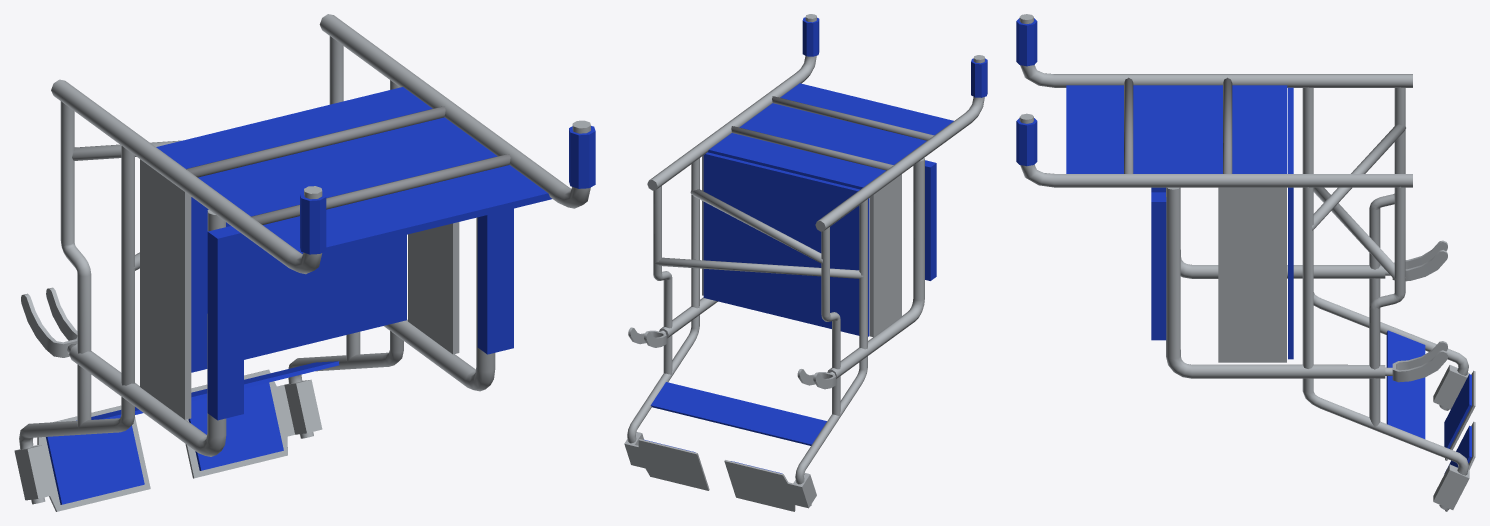
The model's file is chair.obj.
3 views of the same model, side by side, from view 1: azimuth 30°, elevation 25°; view 2: azimuth 150°, elevation 25°; view 3: azimuth 270°, elevation 25° (orthographic). The views are drawn at different scales.
Visible parts, largest first — view 1: export_chair_Plane.005, export_chair_Plane.004, export_chair_Plane.011, export_chair_Cube.020, export_chair_Cylinder.016, export_chair_Cylinder.019, export_chair_Plane.010, export_chair_Plane.012, export_chair_Cylinder.017, export_chair_Cube.019, export_chair_Cylinder.018, export_chair_Plane.013 (+13 smaller); view 2: export_chair_Plane.004, export_chair_Plane.005, export_chair_Plane.014, export_chair_Plane.011, export_chair_Cylinder.015, export_chair_Cube.023, export_chair_Cylinder.016, export_chair_Cube.024, export_chair_Cylinder.017, export_chair_Cylinder.019, export_chair_Cylinder.126, export_chair_Cylinder.131 (+11 smaller); view 3: export_chair_Plane.005, export_chair_Plane.010, export_chair_Cylinder.124, export_chair_Cylinder.019, export_chair_Cylinder.016, export_chair_Cylinder.126, export_chair_Plane.014, export_chair_Cylinder.125, export_chair_Cylinder.017, export_chair_Cube.019, export_chair_Cylinder.018, export_chair_Cylinder.015 (+12 smaller).
Boxes of the visible parts, x1,y1,x2,y2 form: export_chair_Plane.005: (156, 87, 551, 255); export_chair_Plane.004: (191, 197, 406, 372); export_chair_Plane.011: (140, 159, 191, 419); export_chair_Cube.020: (207, 226, 243, 420); export_chair_Cylinder.016: (51, 79, 322, 274); export_chair_Cylinder.019: (319, 14, 590, 208); export_chair_Plane.010: (408, 222, 459, 354); export_chair_Plane.012: (46, 425, 144, 504); export_chair_Cylinder.017: (19, 146, 134, 504); export_chair_Cube.019: (477, 208, 513, 354); export_chair_Cylinder.018: (60, 101, 91, 428); export_chair_Plane.013: (188, 382, 283, 470); export_chair_Plane.004: (703, 152, 869, 336); export_chair_Plane.005: (708, 83, 953, 189); export_chair_Plane.014: (650, 382, 826, 445); export_chair_Plane.011: (869, 174, 901, 337); export_chair_Cylinder.015: (827, 158, 924, 378); export_chair_Cube.023: (724, 460, 816, 511); export_chair_Cylinder.016: (815, 55, 984, 231); export_chair_Cube.024: (624, 432, 709, 490); export_chair_Cylinder.017: (795, 199, 867, 506); export_chair_Cylinder.019: (647, 14, 816, 190); export_chair_Cylinder.126: (627, 158, 699, 443); export_chair_Cylinder.131: (655, 257, 863, 278); export_chair_Plane.005: (1066, 85, 1287, 173); export_chair_Plane.010: (1218, 187, 1286, 362); export_chair_Cylinder.124: (1166, 187, 1385, 378); export_chair_Cylinder.019: (1019, 113, 1412, 187); export_chair_Cylinder.016: (1019, 14, 1412, 87); export_chair_Cylinder.126: (1302, 187, 1468, 510); export_chair_Plane.014: (1386, 330, 1425, 438); export_chair_Cylinder.125: (1369, 186, 1405, 426); export_chair_Cylinder.017: (1302, 87, 1468, 410); export_chair_Cube.019: (1151, 192, 1166, 340); export_chair_Cylinder.018: (1369, 87, 1405, 307); export_chair_Cylinder.015: (1180, 250, 1385, 278).
Bounding box in the file's own units: 2.29 × 3.87 × 4.
